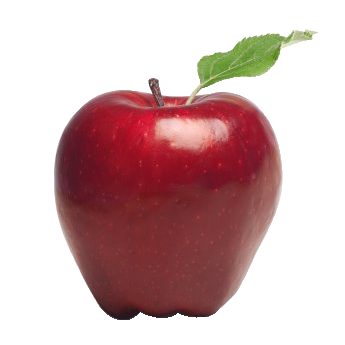apple: (50, 82, 281, 322)
